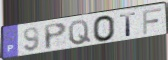9: (22, 26, 41, 52)
F: (142, 7, 163, 35)
O: (91, 15, 116, 43)
P: (43, 21, 68, 51)
Q: (68, 19, 93, 46)
T: (119, 11, 138, 38)
